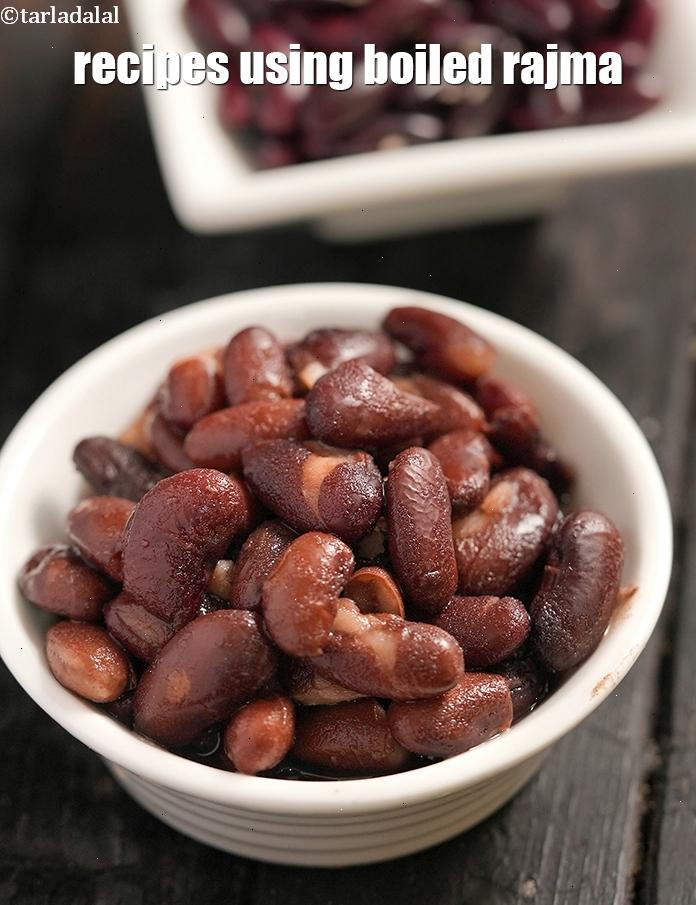rajma: (47, 303, 615, 770)
